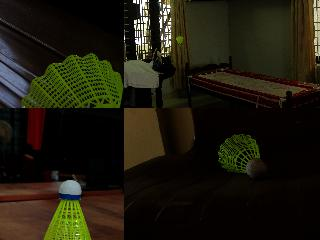shuttlecock: (19, 52, 123, 107), (42, 179, 95, 239), (218, 134, 266, 178), (175, 36, 182, 46)
